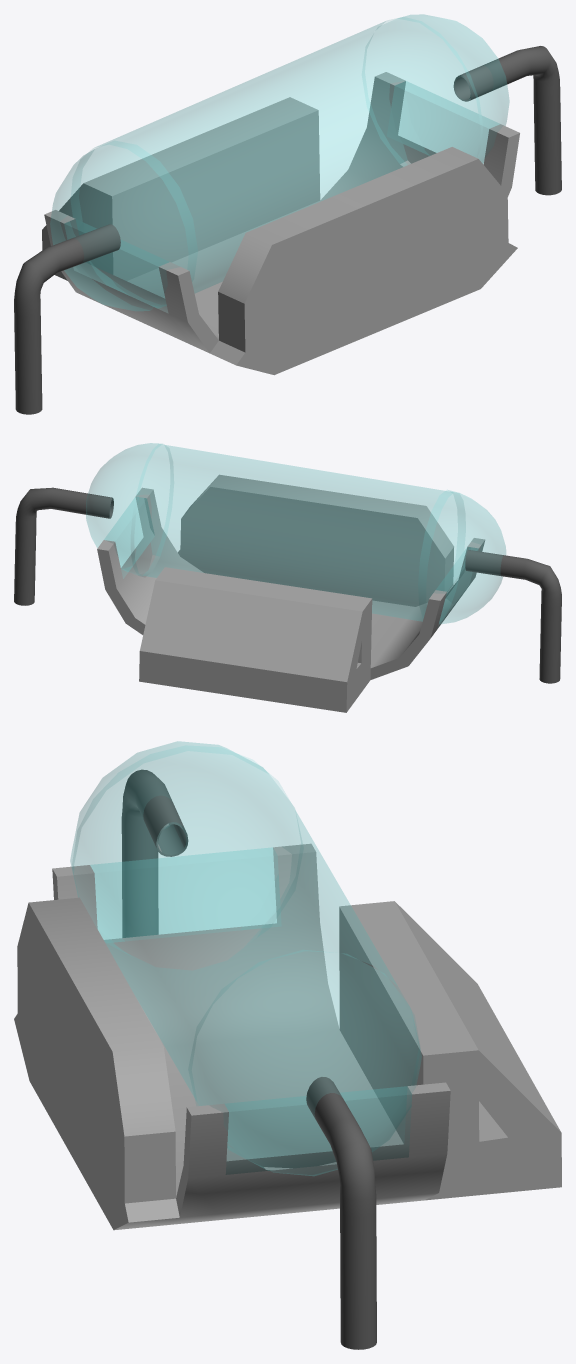
The model's file is AnalyzeChamber.fbx.
3 renders of one model, top to bottom at view 1: azimuth 30°, elevation 25°; view 2: azimuth 150°, elevation 25°; view 3: azimuth 270°, elevation 25°, orthographic. The views are drawn at different scales.
Parts seen in each view (by area): view 1: LabBench:polySurface5; view 2: LabBench:polySurface5; view 3: LabBench:polySurface5.
Boxes of the visible parts, left/top/right/bottom form: LabBench:polySurface5: left=14, top=14, right=561, bottom=414; LabBench:polySurface5: left=14, top=443, right=561, bottom=712; LabBench:polySurface5: left=14, top=741, right=561, bottom=1349.
Bounding box in the file's own units: 165 × 58.53 × 92.74.
